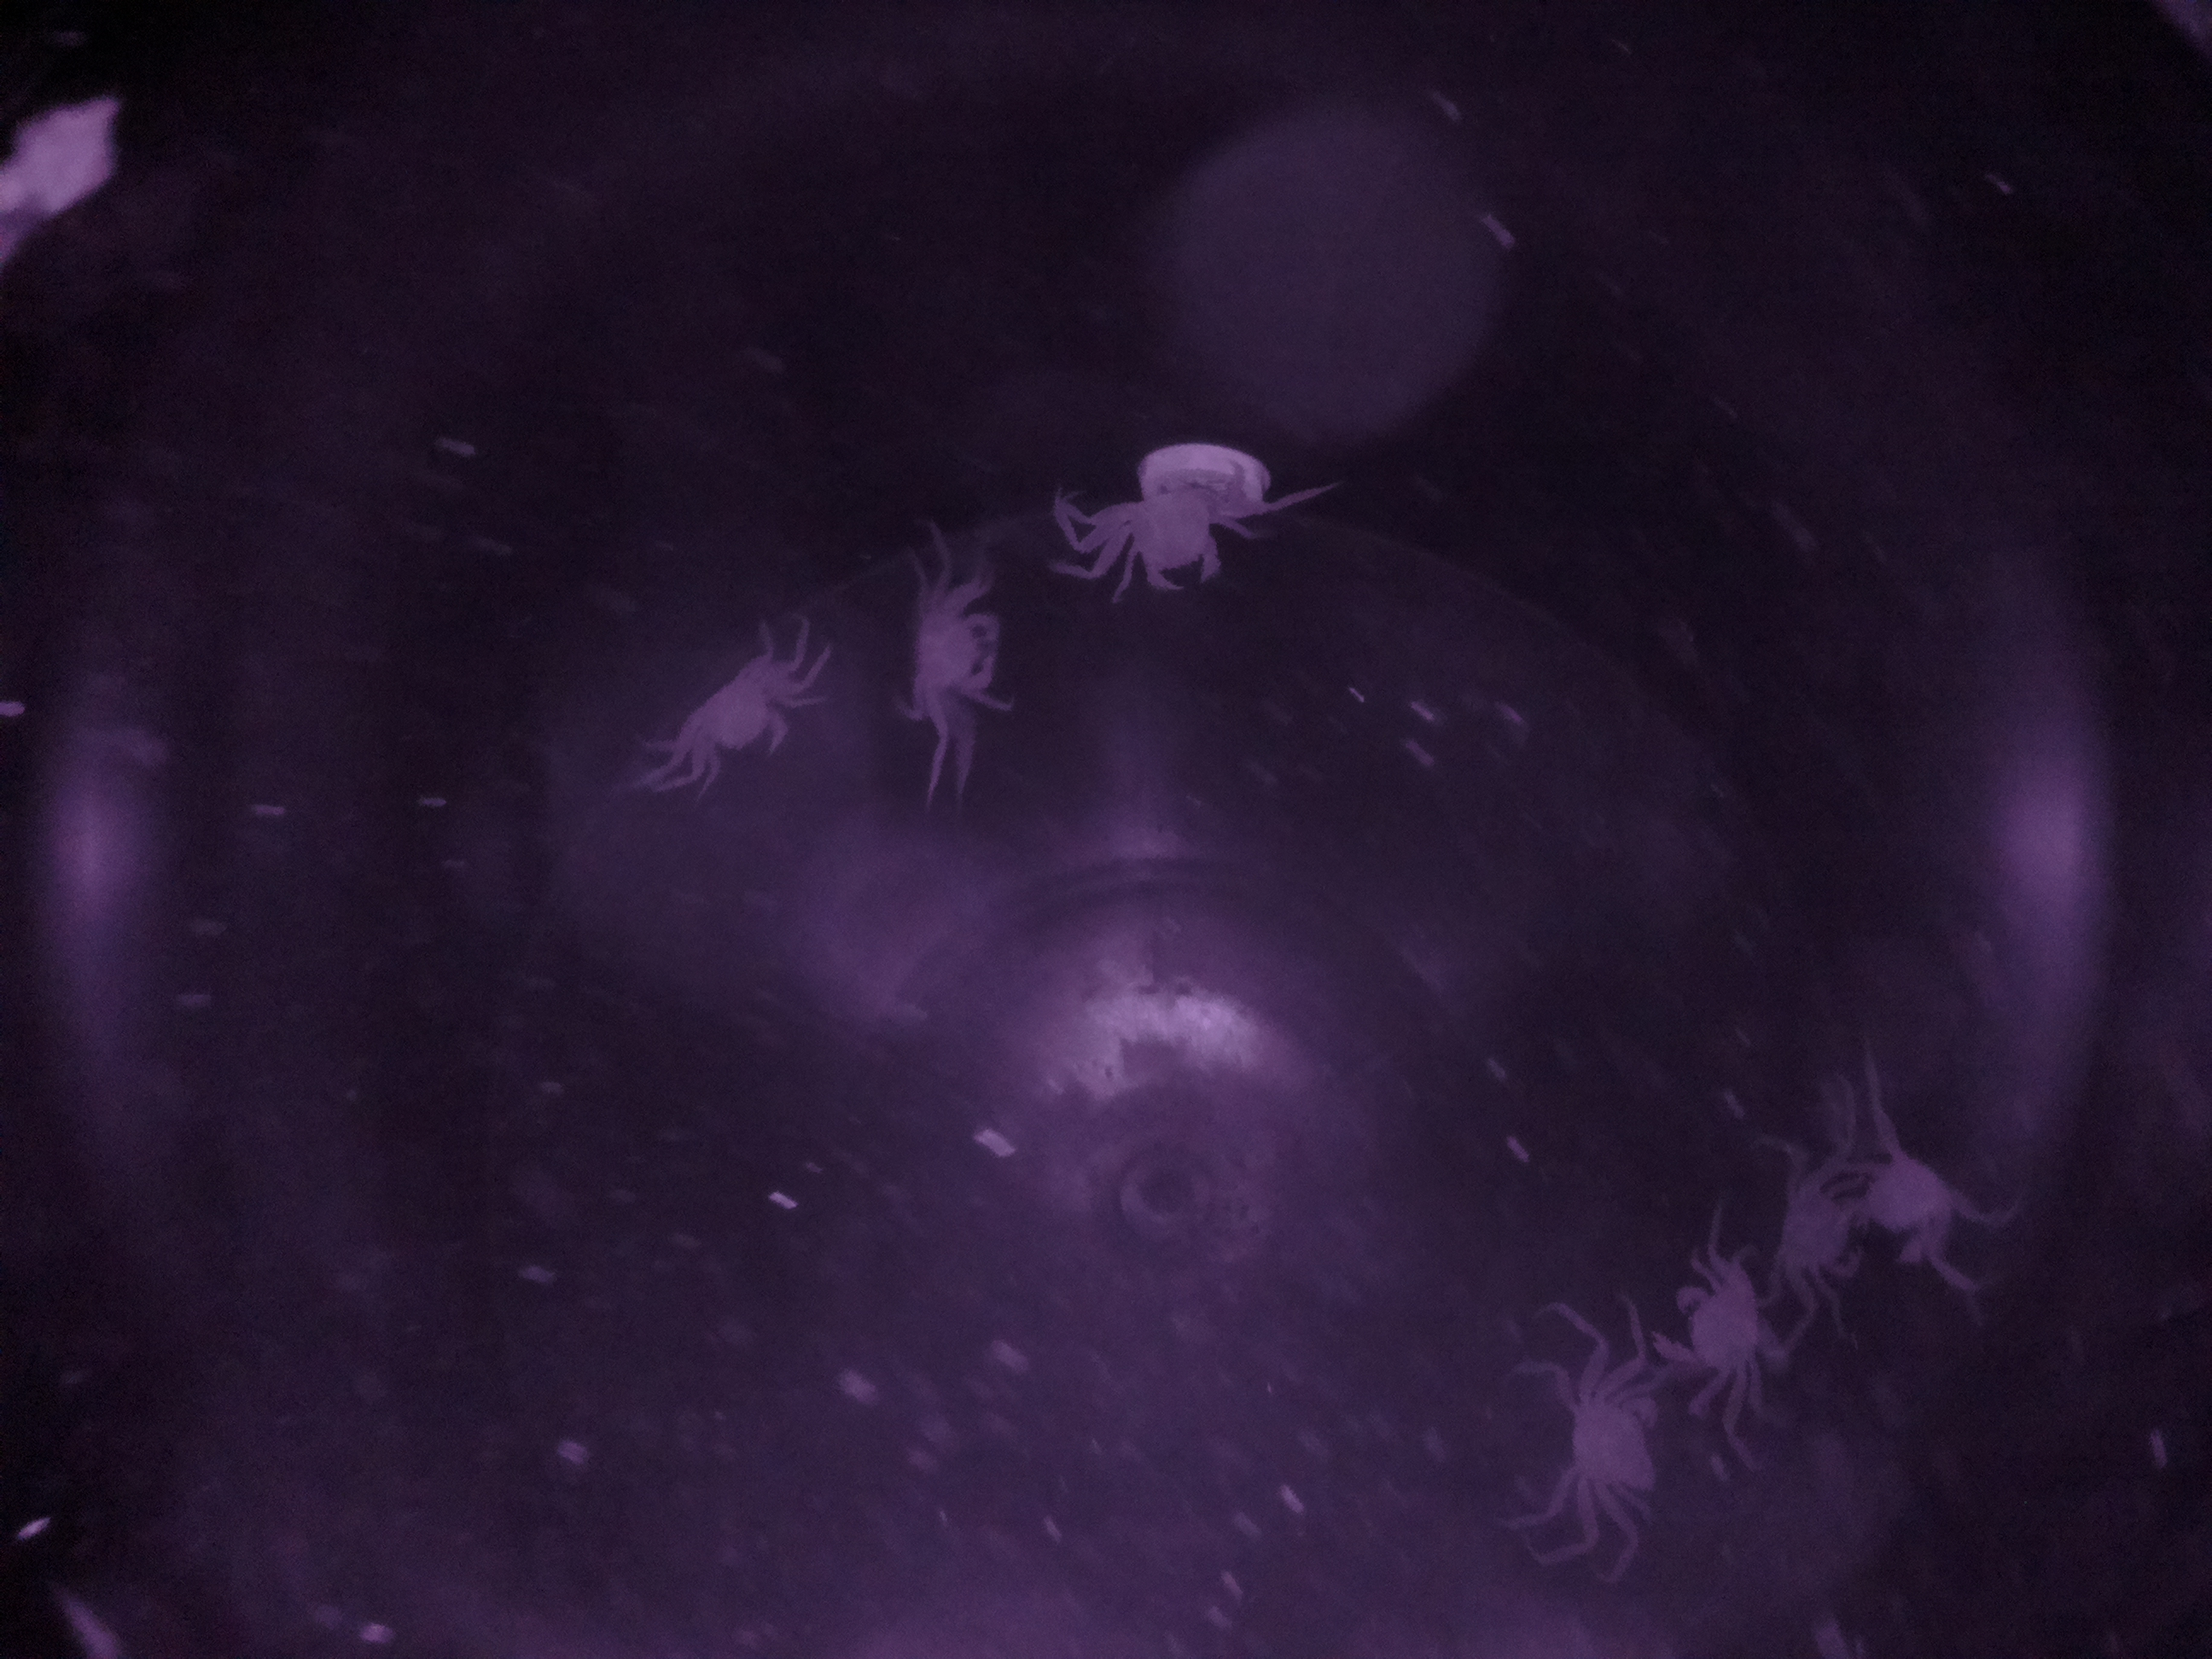Crab: (1547, 1344, 1674, 1554), (1092, 481, 1270, 596), (906, 561, 1008, 735)
